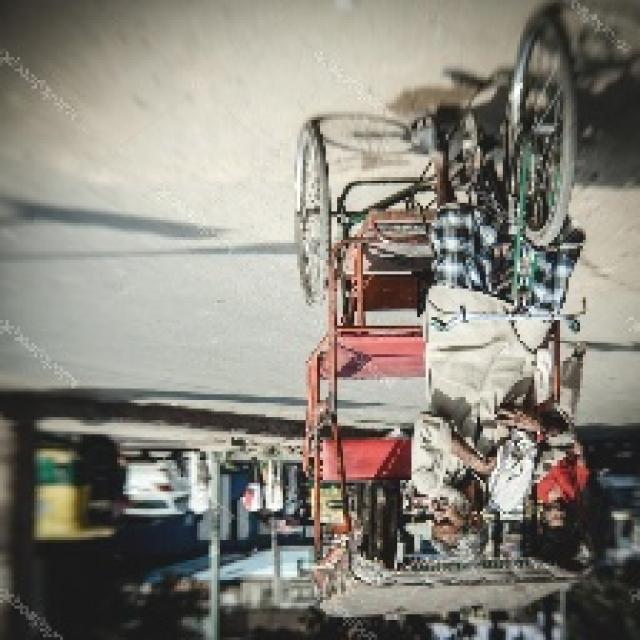rickshaw: (286, 50, 601, 620)
